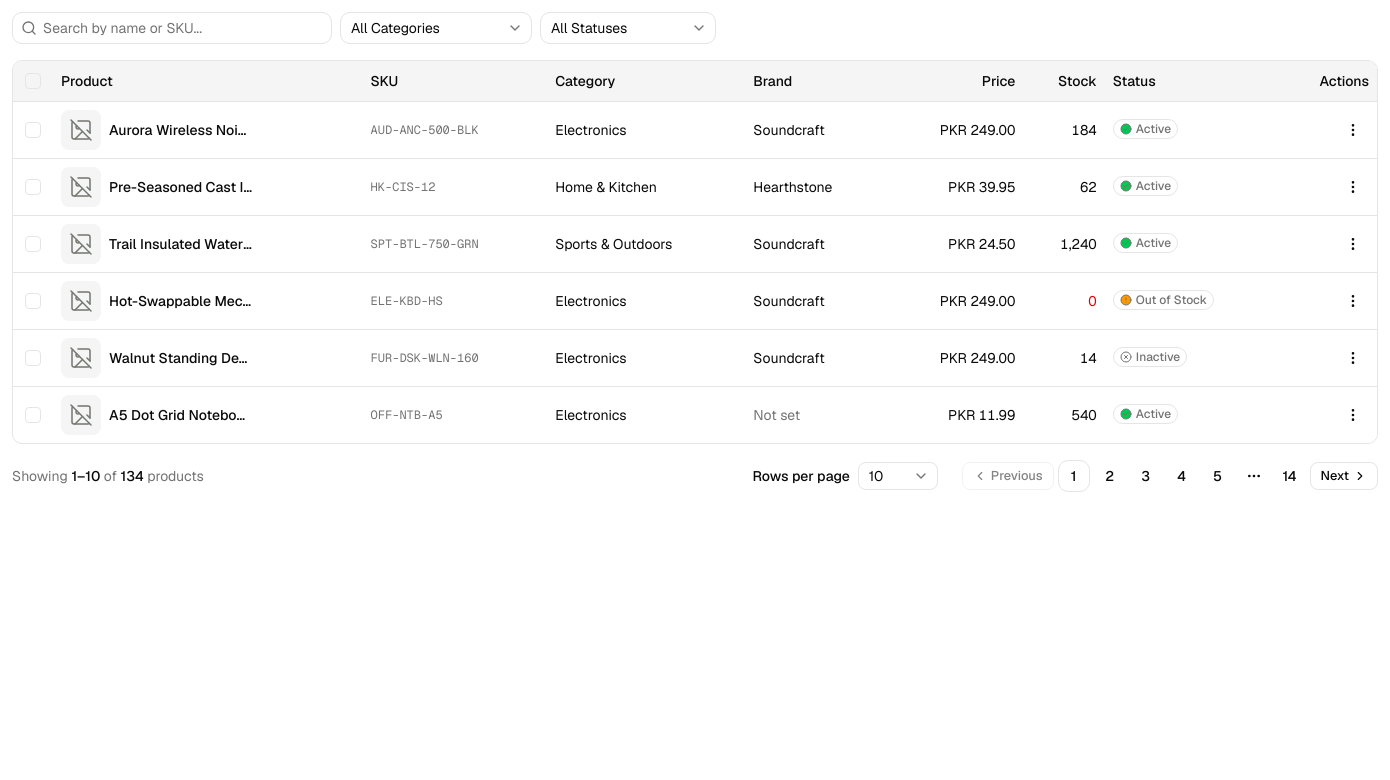
Scenario: ProductsList selection › selects a product and reports the count
Check: the text "Aurora Wireless Noise-Cancelling Headphones" is shown, box [109,120,253,140]
Step 1. Click the checkbox named "Select A5 Dot Grid Notebook, 3-Pack" → coordinates (33, 414), box [25,406,41,422]
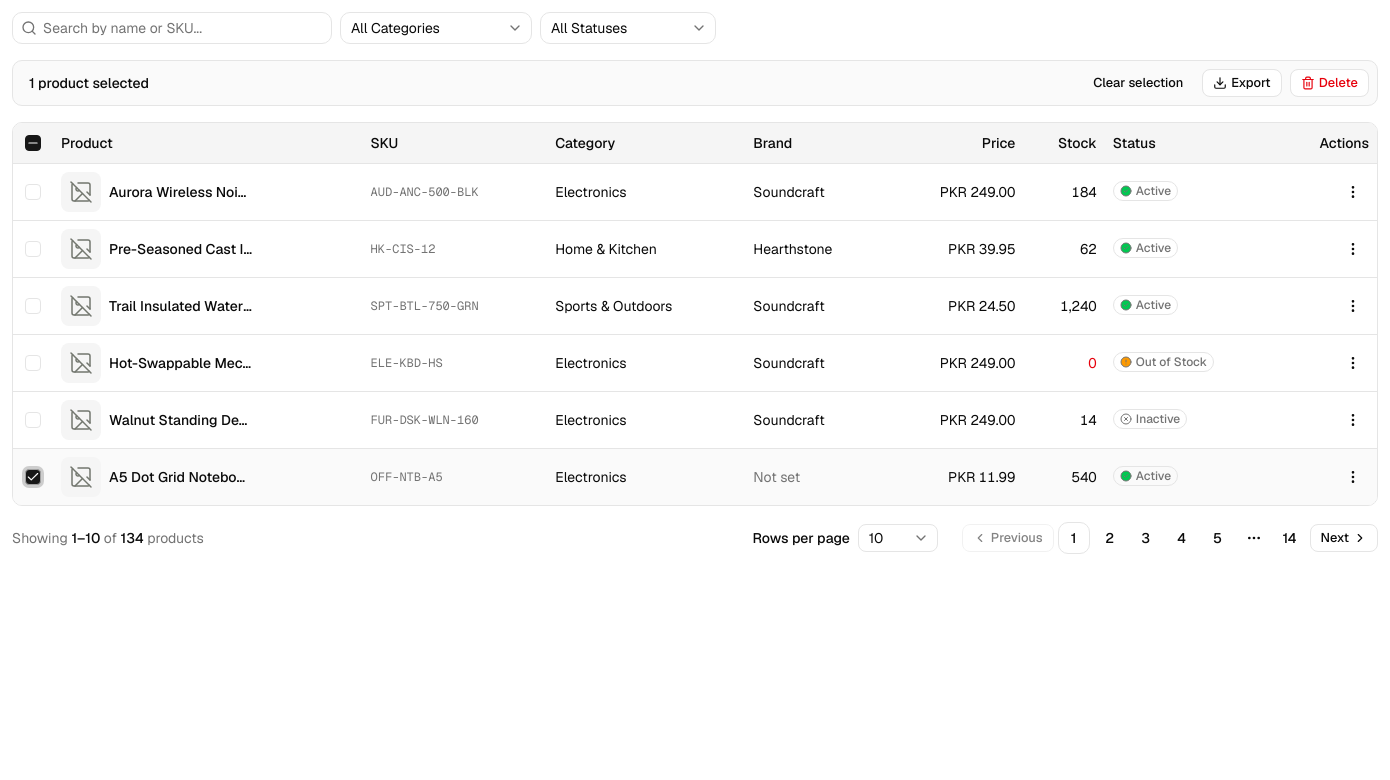
Check: the text "1 product selected" is shown, box [29,73,149,93]
Check: the button "Export" is shown, box [1202,69,1282,97]
Check: the button "Delete" is shown, box [1290,69,1369,97]
